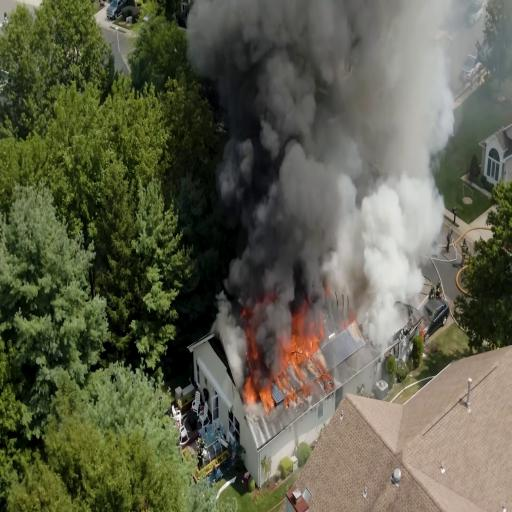fire: (286, 312, 330, 360)
smoke: (216, 0, 340, 294), (338, 0, 417, 305)
